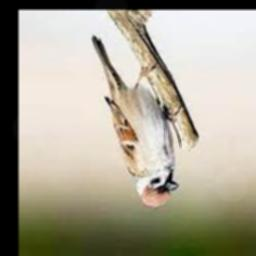Sparrow: (92, 37, 178, 209)
